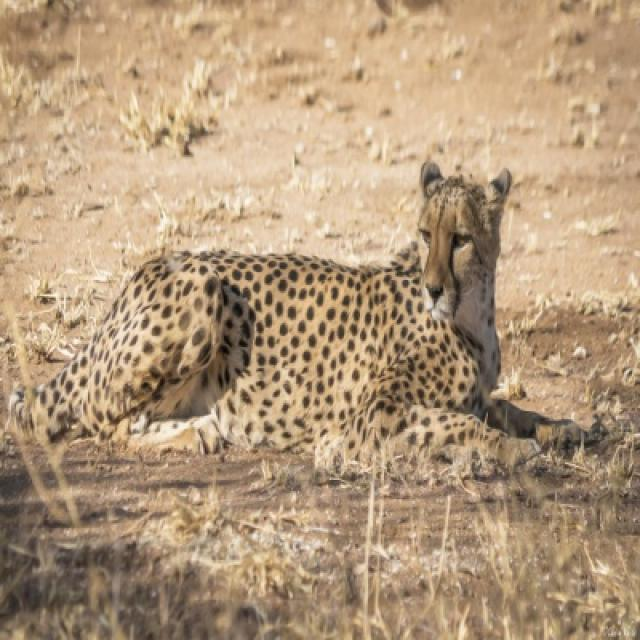Cheetah: (51, 163, 589, 486)
